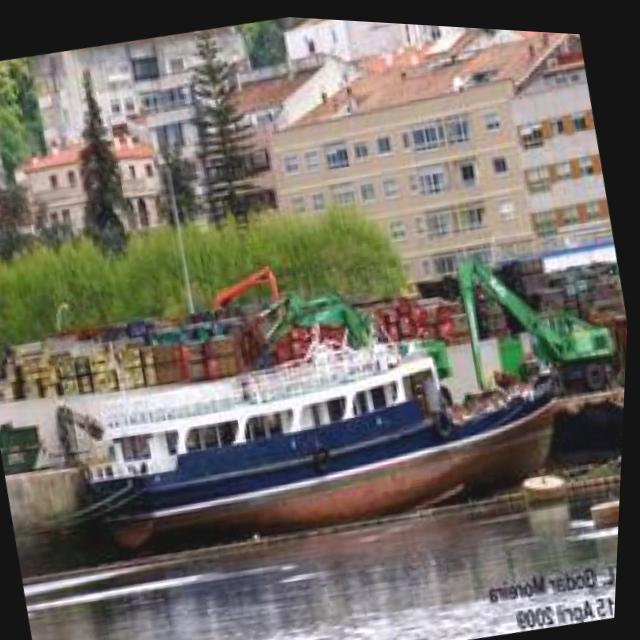ship2: (81, 337, 560, 560)
